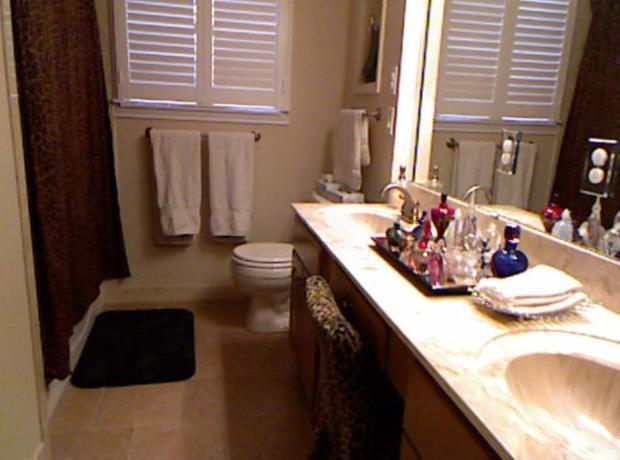Ducha: (6, 1, 133, 422)
Lavamanos: (479, 315, 619, 455)
Sanitario: (230, 173, 369, 335)
